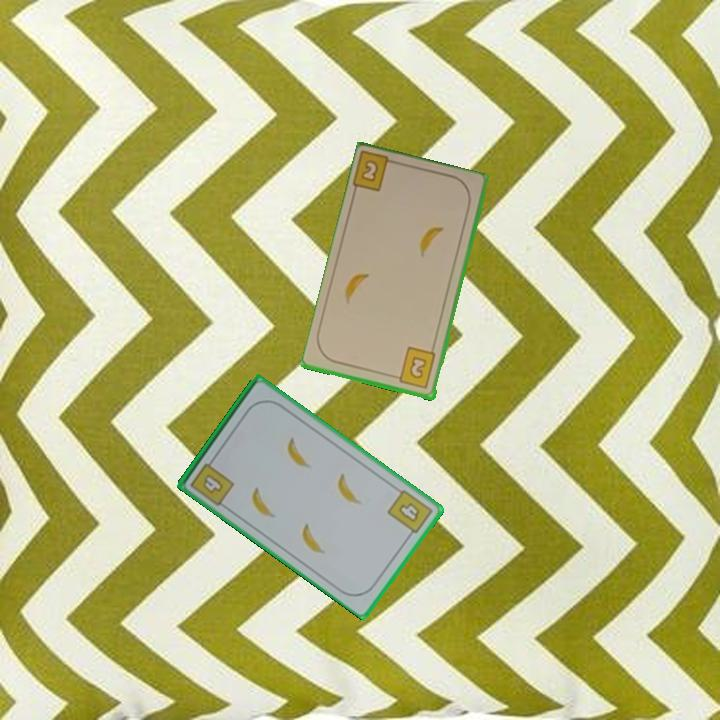2b: (390, 344, 439, 392), (350, 150, 402, 195)
4b: (384, 486, 436, 541), (187, 453, 237, 509)
